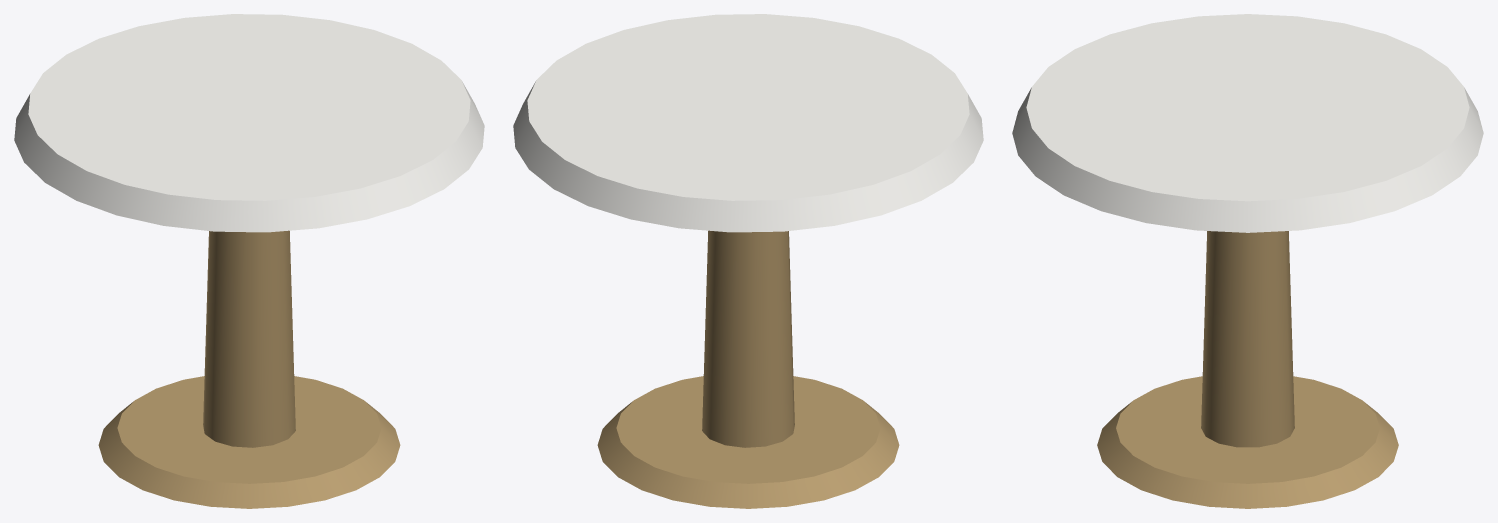
Rendered from meeting-table-round.glb.
The picture shows the model from 3 angles, left to right: view 1: azimuth 30°, elevation 25°; view 2: azimuth 150°, elevation 25°; view 3: azimuth 270°, elevation 25°; orthographic projection.
Bounding box in the file's own units: 1 × 0.79 × 1.
